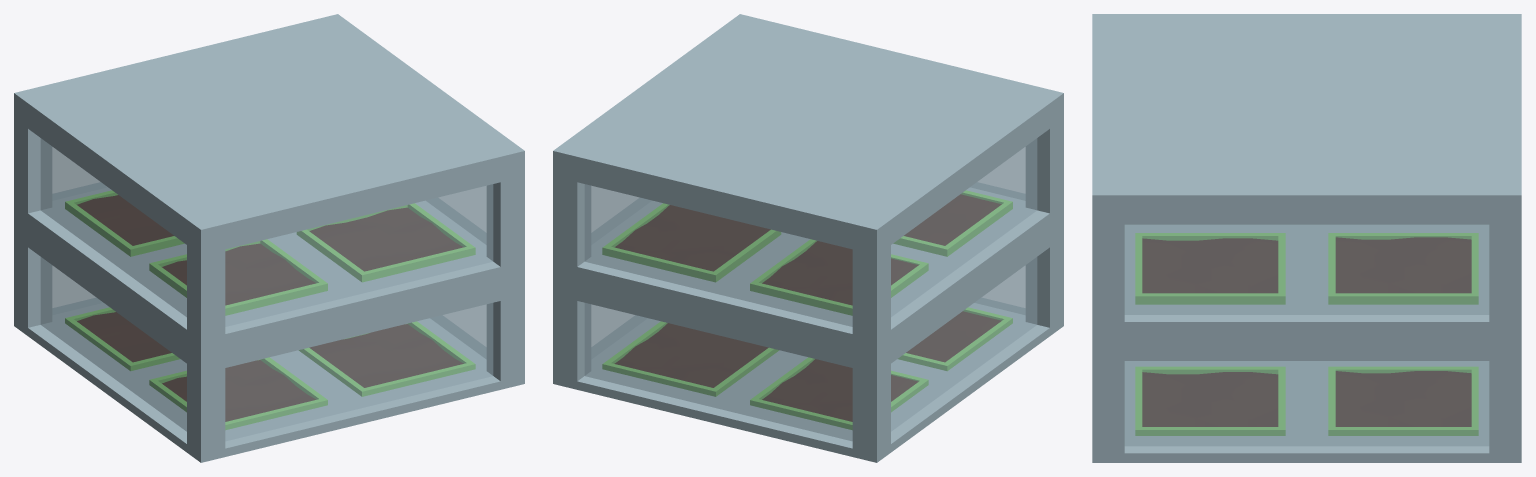
The model's file is Greenhouse (Reclaimed).fbx.
The picture shows the model from 3 angles, left to right: view 1: azimuth 30°, elevation 25°; view 2: azimuth 150°, elevation 25°; view 3: azimuth 270°, elevation 25°; orthographic projection. The views are drawn at different scales.
Visible parts, largest first — view 1: Greenhouse (Reclaimed), Glass Windows (Reclaimed), Soil Plane.007, Soil Plane.005, Plant Plot (Reclaimed).003, Plant Plot (Reclaimed).001, Soil Plane.006, Soil Plane.004, Plant Plot (Reclaimed).002, Plant Plot (Reclaimed); view 2: Greenhouse (Reclaimed), Glass Windows (Reclaimed), Soil Plane.006, Soil Plane.004, Plant Plot (Reclaimed).002, Plant Plot (Reclaimed), Soil Plane.007, Soil Plane.005, Plant Plot (Reclaimed).003, Plant Plot (Reclaimed).001; view 3: Greenhouse (Reclaimed), Glass Windows (Reclaimed), Soil Plane.006, Soil Plane.004, Soil Plane.007, Soil Plane.005, Plant Plot (Reclaimed).003, Plant Plot (Reclaimed).002, Plant Plot (Reclaimed).001, Plant Plot (Reclaimed).
Boxes of the visible parts, box(x1,y1,x2,y2) form: Greenhouse (Reclaimed): box(14, 14, 524, 462); Glass Windows (Reclaimed): box(40, 138, 493, 440); Soil Plane.007: box(162, 207, 463, 305); Soil Plane.005: box(162, 324, 463, 421); Plant Plot (Reclaimed).003: box(149, 203, 475, 315); Plant Plot (Reclaimed).001: box(149, 321, 475, 429); Soil Plane.006: box(77, 195, 173, 245); Soil Plane.004: box(77, 312, 171, 362); Plant Plot (Reclaimed).002: box(65, 190, 184, 256); Plant Plot (Reclaimed): box(65, 307, 179, 370); Greenhouse (Reclaimed): box(553, 14, 1063, 462); Glass Windows (Reclaimed): box(584, 138, 1037, 440); Soil Plane.006: box(615, 205, 918, 305); Soil Plane.004: box(615, 323, 918, 421); Plant Plot (Reclaimed).002: box(602, 203, 928, 315); Plant Plot (Reclaimed): box(602, 321, 928, 429); Soil Plane.007: box(904, 194, 1001, 245); Soil Plane.005: box(906, 311, 1001, 362); Plant Plot (Reclaimed).003: box(893, 190, 1012, 256); Plant Plot (Reclaimed).001: box(898, 307, 1012, 370); Greenhouse (Reclaimed): box(1092, 14, 1521, 462); Glass Windows (Reclaimed): box(1124, 224, 1489, 446); Soil Plane.006: box(1335, 237, 1471, 293); Soil Plane.004: box(1335, 371, 1471, 426); Soil Plane.007: box(1142, 238, 1278, 293); Soil Plane.005: box(1142, 372, 1278, 426); Plant Plot (Reclaimed).003: box(1135, 233, 1285, 304); Plant Plot (Reclaimed).002: box(1328, 233, 1478, 304); Plant Plot (Reclaimed).001: box(1135, 366, 1285, 435); Plant Plot (Reclaimed): box(1328, 366, 1478, 435).
Size of the model in its own units: 40 by 40 by 27.5.
